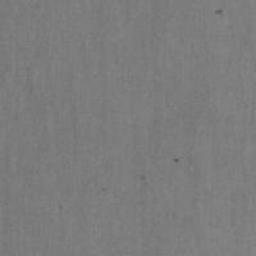Inclusion: (215, 9, 223, 15)
